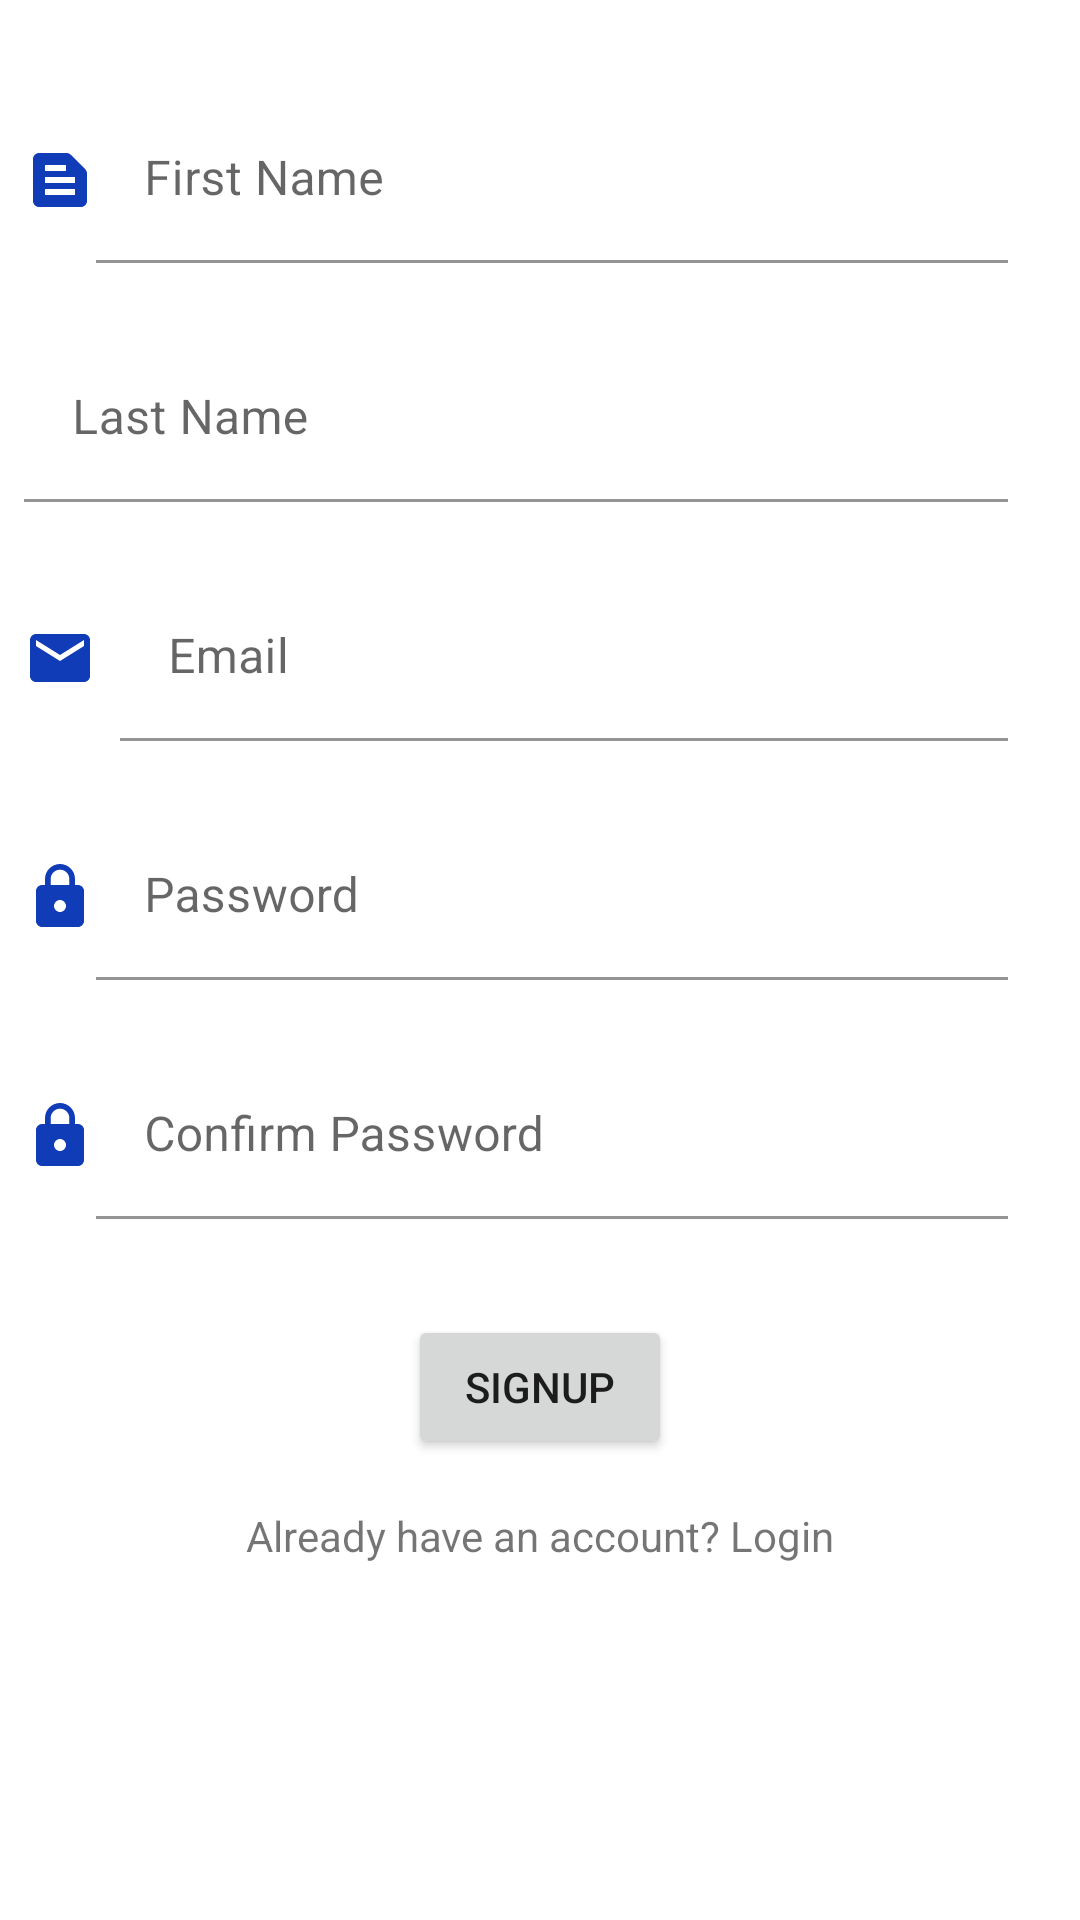

Named icons in this screenshot (1080×1920) and their bounding boxes, (x1, y1, x2, y2):
lock: (36, 864, 84, 927), (36, 1103, 84, 1166)
text snippet: (33, 153, 87, 207)
